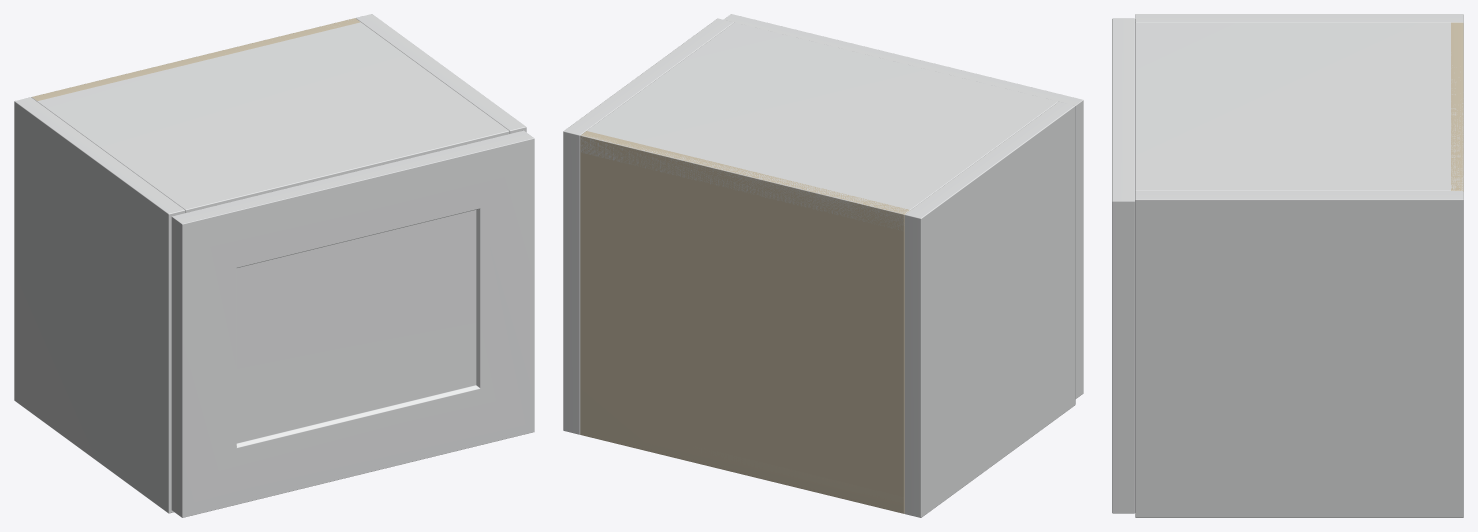
Rendered from PLY-WSS-W1512.glb.
3 renders of one model, left to right at view 1: azimuth 30°, elevation 25°; view 2: azimuth 150°, elevation 25°; view 3: azimuth 270°, elevation 25°, orthographic. The views are drawn at different scales.
Parts seen in each view (by area): view 1: Shaker door, Carcass left, Carcass top, Carcass right, Carcass back; view 2: Carcass back, Carcass left, Carcass top, Carcass right, Shaker door, Carcass bottom; view 3: Carcass right, Carcass top, Shaker door, Carcass left, Carcass back.
Part boxes in pixels (x1=…): Shaker door: x1=171, y1=130, x2=534, y2=517; Carcass left: x1=14, y1=97, x2=185, y2=513; Carcass top: x1=31, y1=20, x2=509, y2=212; Carcass right: x1=356, y1=14, x2=526, y2=133; Carcass back: x1=32, y1=18, x2=360, y2=100; Carcass back: x1=580, y1=131, x2=909, y2=513; Carcass left: x1=904, y1=101, x2=1075, y2=517; Carcass top: x1=580, y1=22, x2=1058, y2=229; Carcass right: x1=563, y1=18, x2=733, y2=434; Shaker door: x1=723, y1=14, x2=1083, y2=398; Carcass bottom: x1=580, y1=434, x2=904, y2=513; Carcass right: x1=1135, y1=191, x2=1463, y2=517; Carcass top: x1=1135, y1=22, x2=1463, y2=190; Shaker door: x1=1112, y1=18, x2=1135, y2=513; Carcass left: x1=1135, y1=14, x2=1463, y2=22; Carcass back: x1=1451, y1=22, x2=1463, y2=191.
Size of the model in its own units: 0.381 by 0.3048 by 0.3048.
